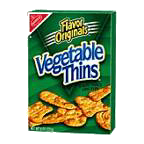grozi_119: (28, 10, 116, 134)
